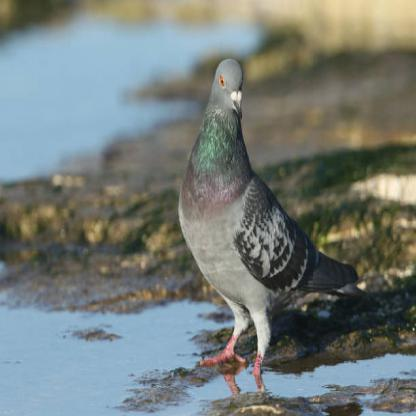Rock Pigeon: (175, 54, 350, 377)
